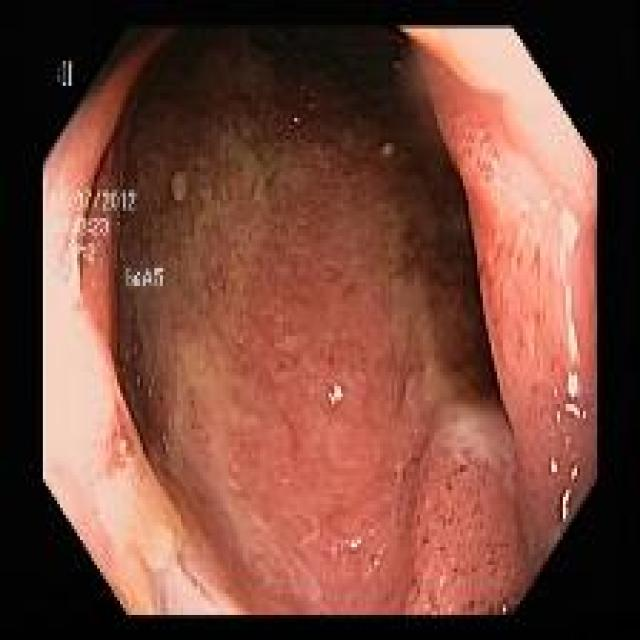ulcerative-colitis: (90, 30, 526, 612)
